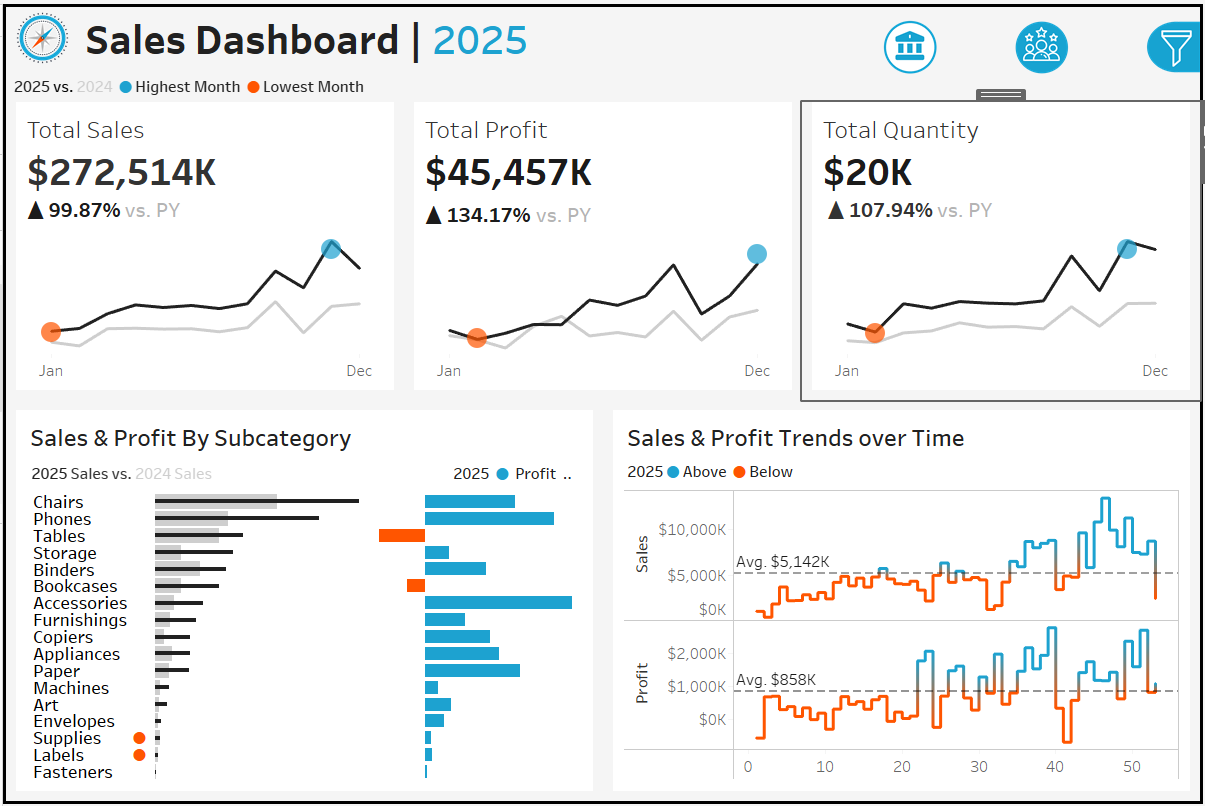

What the dashboard file says about the page in this screenshot:
{"tool":"tableau","page":{"name":"Sales Dashboard","canvas":[1200,800],"ordinal":0},"visuals":[{"type":"image","param":"D:/BLR prep/Tableau Project (You Tube)/Sales Dashboard Materials/Dashboard Icons","box":[3,3,72,62]},{"type":"text","box":[75,3,1122,62]},{"type":"blank","box":[958,10,229,92]},{"type":"dashboard-object","box":[841,12,132,62]},{"type":"dashboard-object","box":[973,12,131,62]},{"type":"worksheet","title":"Legends of KPI","mark":"Automatic","box":[3,65,1194,33]},{"type":"worksheet","title":"KPI Sales","mark":"Automatic","rows":["Calculation_2710322611275460613"],"cols":["Order Date"],"box":[3,98,398,298]},{"type":"worksheet","title":"KPI Profit","mark":"Automatic","rows":["Calculation_2710322611314409487"],"cols":["Order Date"],"box":[401,98,398,298]},{"type":"worksheet","title":"KPI Quantity","mark":"Automatic","rows":["Calculation_2710322611613818904"],"cols":["Order Date"],"box":[799,98,398,298]},{"type":"text","box":[958,102,229,40]},{"type":"parameter","param":"[Parameters].[Parameter 1]","box":[958,142,229,56]},{"type":"blank","box":[958,198,229,43]},{"type":"text","box":[958,241,229,33]},{"type":"filter","title":"KPI Sales","param":"[federated.13idvkn0ldardr136i0s81cqp4w7].[none:Category:nk]","box":[958,274,229,61]},{"type":"filter","title":"KPI Sales","param":"[federated.13idvkn0ldardr136i0s81cqp4w7].[none:Sub-Category:nk]","box":[958,335,229,61]},{"type":"blank","box":[958,396,229,43]},{"type":"text","box":[20,413,563,40]},{"type":"text","box":[617,413,563,40]},{"type":"text","box":[958,439,229,33]},{"type":"worksheet","title":"Legends of Subcategory","mark":"Automatic","box":[20,453,423,32]},{"type":"text","box":[443,453,140,32]},{"type":"text","box":[617,453,563,29]},{"type":"filter","title":"KPI Sales","param":"[federated.13idvkn0ldardr136i0s81cqp4w7].[none:Region:nk]","box":[958,472,229,61]},{"type":"worksheet","title":"Weekly Trends","mark":"Automatic","rows":["Calculation_2710322611266506752","Calculation_2710322611312779276"],"cols":["Order Date"],"box":[617,482,563,298]},{"type":"worksheet","title":"Sub Category Comparision","mark":"Bar","rows":["Sub-Category","Calculation_2710322611651006492"],"cols":["CY Sales (copy)_2710322611267141633","Calculation_2710322611266506752","Calculation_2710322611312779276"],"box":[20,485,563,295]},{"type":"filter","title":"KPI Sales","param":"[federated.13idvkn0ldardr136i0s81cqp4w7].[none:State:nk]","box":[958,533,229,61]},{"type":"filter","title":"KPI Sales","param":"[federated.13idvkn0ldardr136i0s81cqp4w7].[none:City:nk]","box":[958,594,229,61]}]}

Visuals, with their boxes in screenshot pixels (x1, y1, x2, y2), scaled from the page's 1200x800 canvas onto the 1205x806 screenshot:
image: pyautogui.locateOnScreen(3, 3, 75, 65)
text: pyautogui.locateOnScreen(75, 3, 1202, 65)
blank: pyautogui.locateOnScreen(962, 10, 1192, 103)
dashboard-object: pyautogui.locateOnScreen(845, 12, 977, 75)
dashboard-object: pyautogui.locateOnScreen(977, 12, 1109, 75)
"Legends of KPI" worksheet: pyautogui.locateOnScreen(3, 65, 1202, 99)
"KPI Sales" worksheet: pyautogui.locateOnScreen(3, 99, 403, 399)
"KPI Profit" worksheet: pyautogui.locateOnScreen(403, 99, 802, 399)
"KPI Quantity" worksheet: pyautogui.locateOnScreen(802, 99, 1202, 399)
text: pyautogui.locateOnScreen(962, 103, 1192, 143)
parameter: pyautogui.locateOnScreen(962, 143, 1192, 199)
blank: pyautogui.locateOnScreen(962, 199, 1192, 243)
text: pyautogui.locateOnScreen(962, 243, 1192, 276)
"KPI Sales" filter: pyautogui.locateOnScreen(962, 276, 1192, 338)
"KPI Sales" filter: pyautogui.locateOnScreen(962, 338, 1192, 399)
blank: pyautogui.locateOnScreen(962, 399, 1192, 442)
text: pyautogui.locateOnScreen(20, 416, 585, 456)
text: pyautogui.locateOnScreen(620, 416, 1185, 456)
text: pyautogui.locateOnScreen(962, 442, 1192, 476)
"Legends of Subcategory" worksheet: pyautogui.locateOnScreen(20, 456, 445, 489)
text: pyautogui.locateOnScreen(445, 456, 585, 489)
text: pyautogui.locateOnScreen(620, 456, 1185, 486)
"KPI Sales" filter: pyautogui.locateOnScreen(962, 476, 1192, 537)
"Weekly Trends" worksheet: pyautogui.locateOnScreen(620, 486, 1185, 786)
"Sub Category Comparision" worksheet (Bar marks): pyautogui.locateOnScreen(20, 489, 585, 786)
"KPI Sales" filter: pyautogui.locateOnScreen(962, 537, 1192, 598)
"KPI Sales" filter: pyautogui.locateOnScreen(962, 598, 1192, 660)
